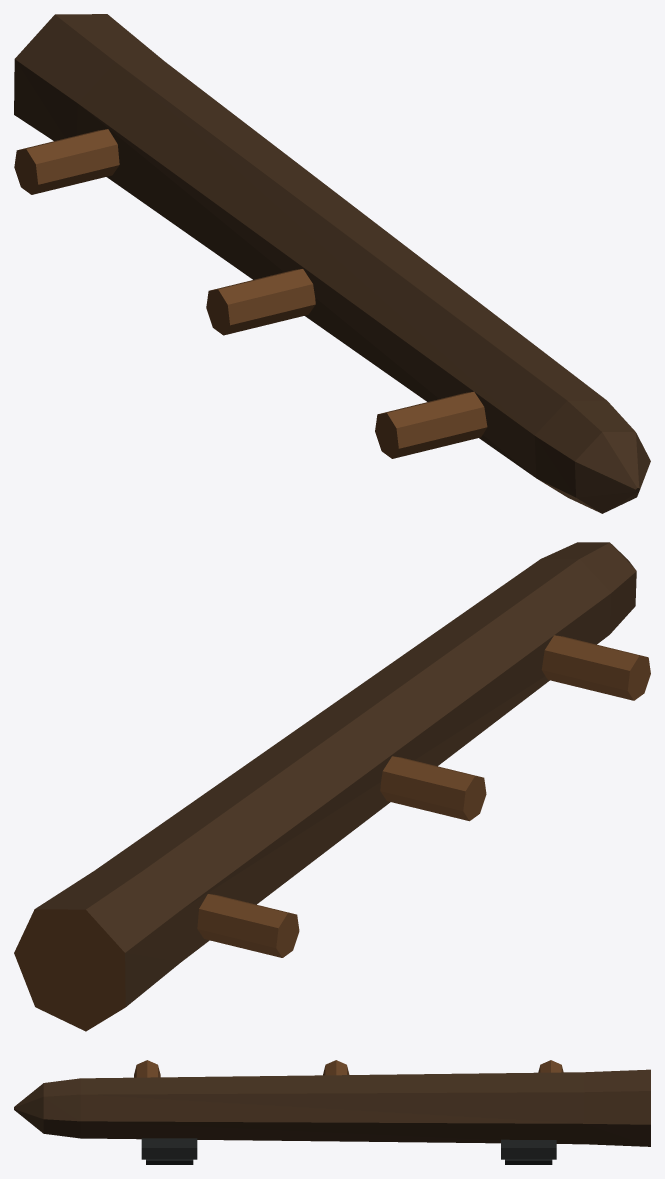
The model's file is SM_Wattle_EndPost_1348_LOD1.obj.
The picture shows the model from 3 angles, top to bottom: view 1: azimuth 30°, elevation 25°; view 2: azimuth 150°, elevation 25°; view 3: azimuth 270°, elevation 25°; orthographic projection. The views are drawn at different scales.
Parts seen in each view (by area): view 1: hewn_vertical_stake, one_side_rail_sockets, one_side_rail_sockets_cut; view 2: hewn_vertical_stake, one_side_rail_sockets, stake_bottom, one_side_rail_sockets_cut; view 3: hewn_vertical_stake, gate_hinge_plate, one_side_rail_sockets, vertical_pivot_iron.
Part boxes in pixels (box(x1,y1,x2,y2)): hewn_vertical_stake: box(14, 14, 650, 513); one_side_rail_sockets: box(19, 129, 487, 458); one_side_rail_sockets_cut: box(14, 149, 398, 458); hewn_vertical_stake: box(35, 542, 636, 1006); one_side_rail_sockets: box(197, 635, 646, 957); stake_bottom: box(14, 909, 125, 1031); one_side_rail_sockets_cut: box(276, 656, 650, 957); hewn_vertical_stake: box(14, 1069, 650, 1146); gate_hinge_plate: box(141, 1138, 556, 1159); one_side_rail_sockets: box(134, 1060, 563, 1077); vertical_pivot_iron: box(146, 1159, 552, 1164).
Size of the model in its own units: 0.351 by 0.2253 by 1.72.
